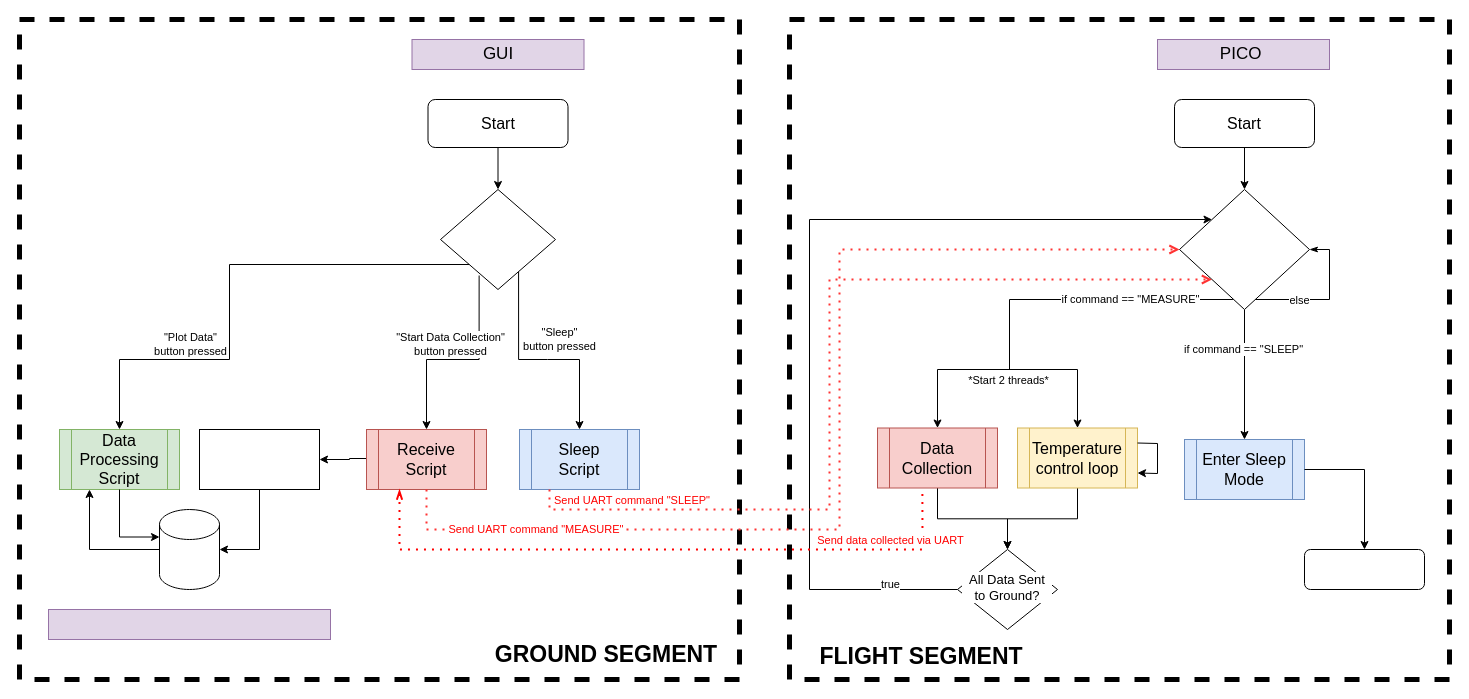
The diagram is 1469 pixels wide and 699 high, and some of its shapes have lost their labels. Here are the shapes that lost their labels. From the top down, the centre of each, then its label:
point (498, 239): Wait for button press
point (1244, 249): Listen for UART commands
point (259, 459): Save Data
point (189, 549): Data
point (1364, 569): End
point (189, 624): DATA PROCESSING APPLICATION
